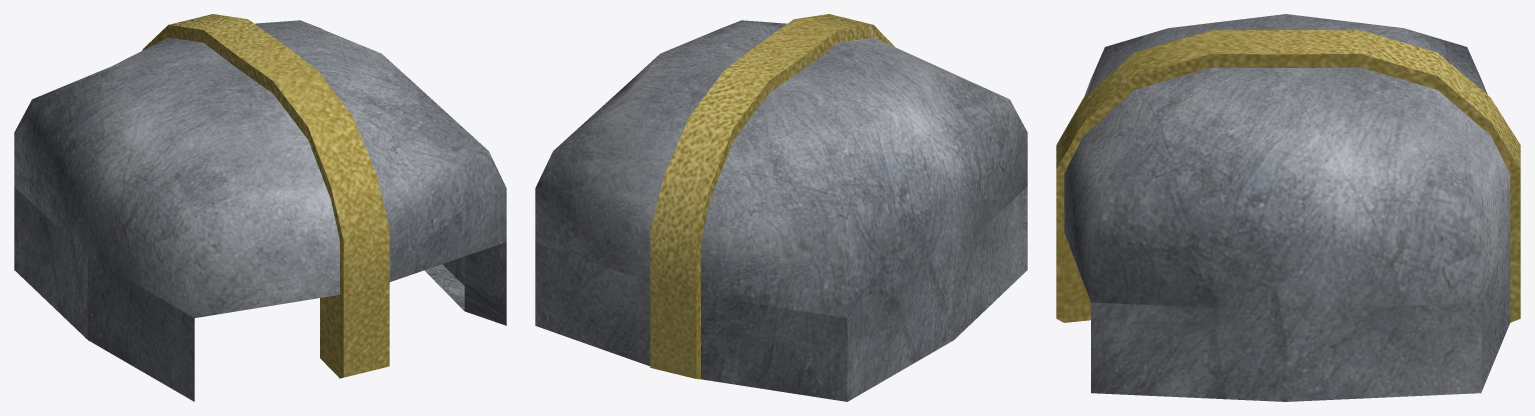
File: helmet.FBX
3 views of the same model, side by side, from view 1: azimuth 30°, elevation 25°; view 2: azimuth 150°, elevation 25°; view 3: azimuth 270°, elevation 25° (orthographic). The views are drawn at different scales.
Parts seen in each view (by area): view 1: helm; view 2: helm; view 3: helm.
Boxes of the visible parts, left/top/right/bottom form: helm: left=14, top=14, right=506, bottom=401; helm: left=535, top=14, right=1027, bottom=401; helm: left=1056, top=14, right=1520, bottom=401.
Size of the model in its own units: 24412 by 16752 by 26253.
1 material, 1 textured.
